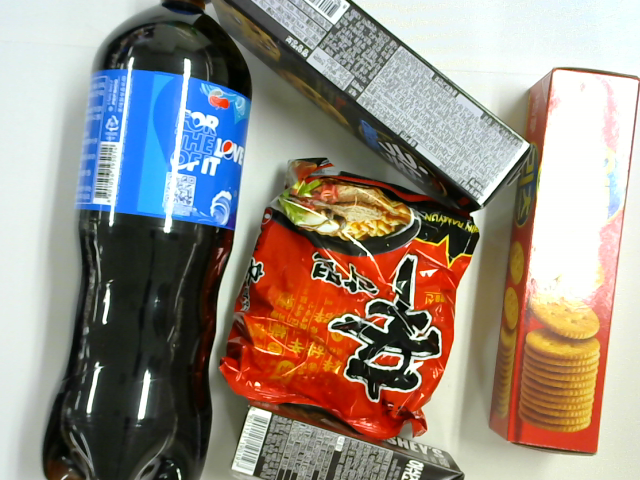Chicchok_Original_2400: (207, 1, 526, 214)
Hush_Choco_Drink: (223, 407, 462, 480)
Pepsi_Cola_1.5L: (60, 2, 242, 480)
Ritz_Cracker: (510, 55, 620, 461)
Sinramen: (208, 187, 468, 414)
